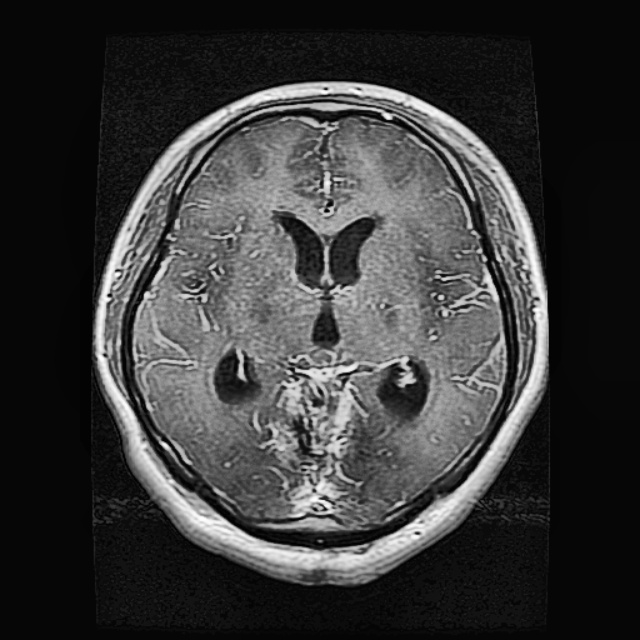Glioma: (257, 349, 367, 515)
